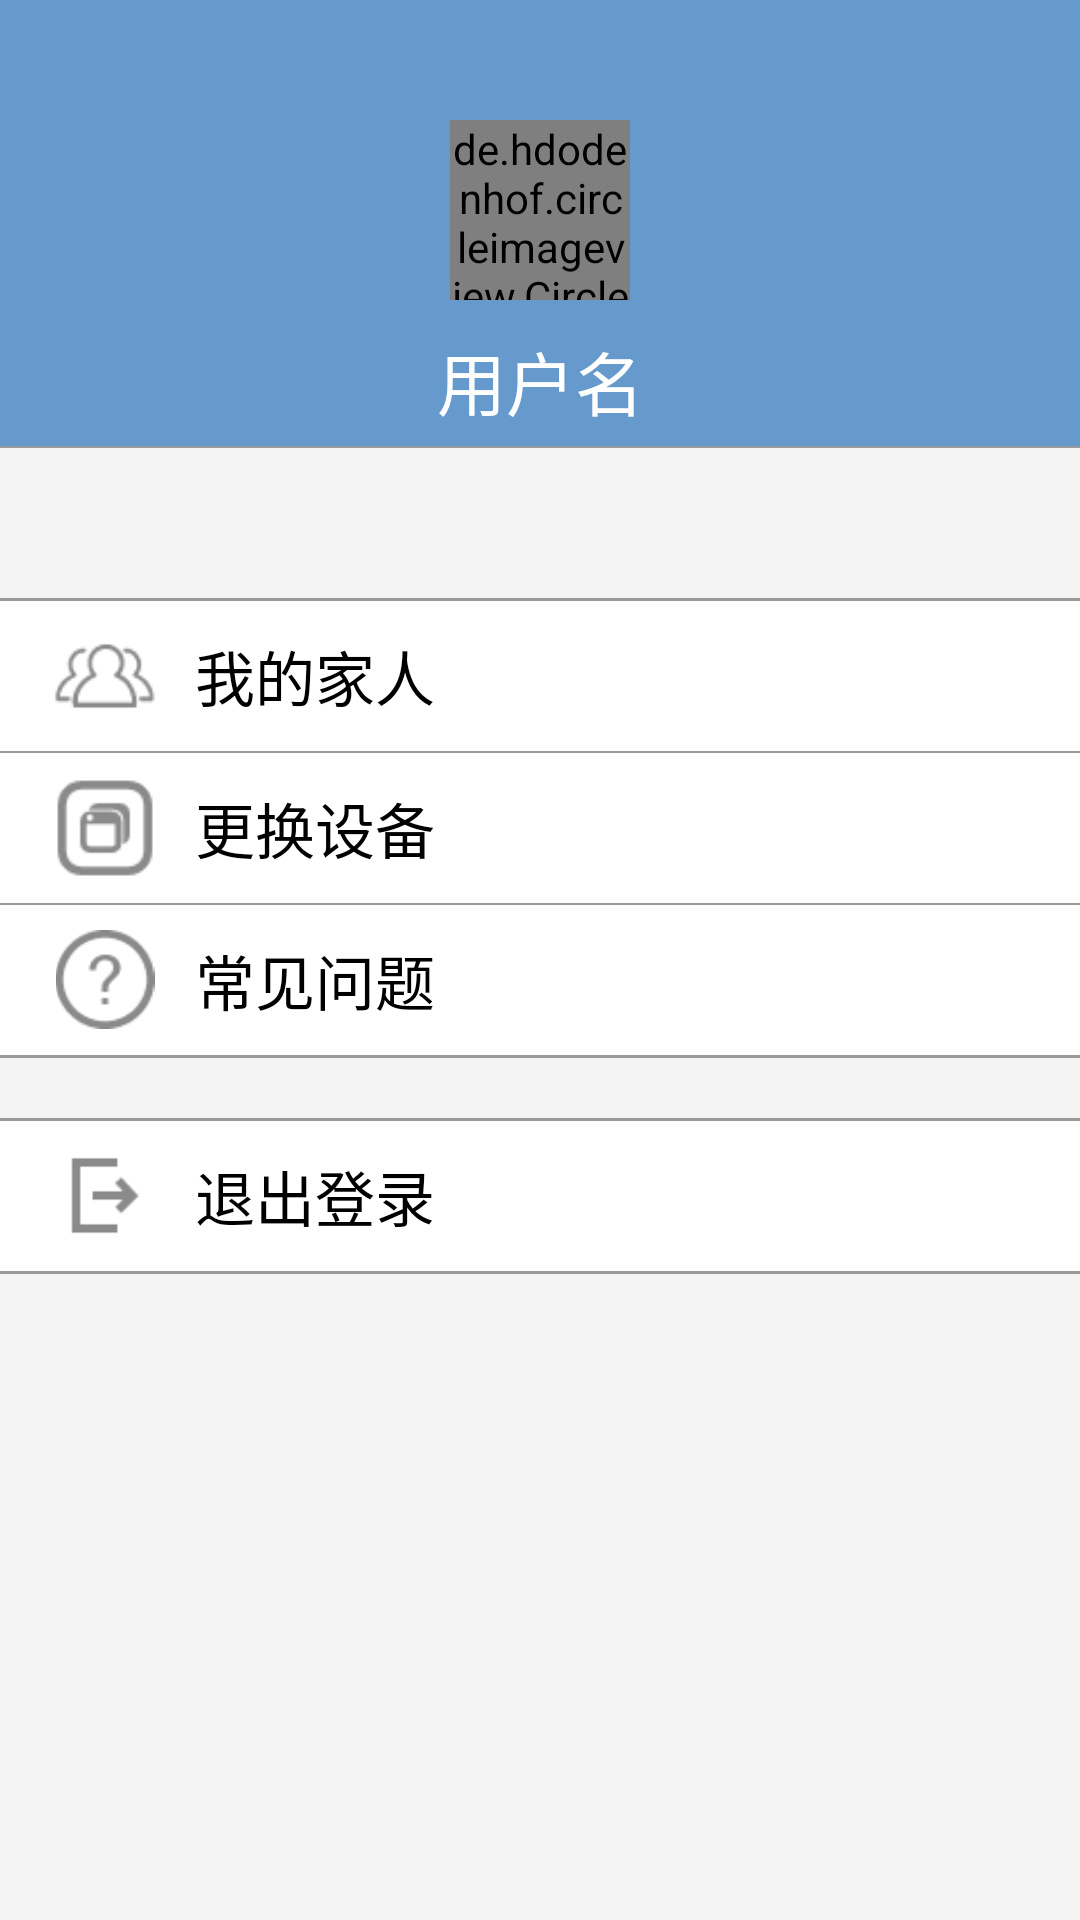

Screen size 1080 × 1920. Icon name, then its box in pixels as bbox=(x1, y1, x2, y2):
device: bbox=(57, 780, 153, 876)
family: bbox=(55, 644, 155, 708)
question: bbox=(56, 930, 155, 1029)
